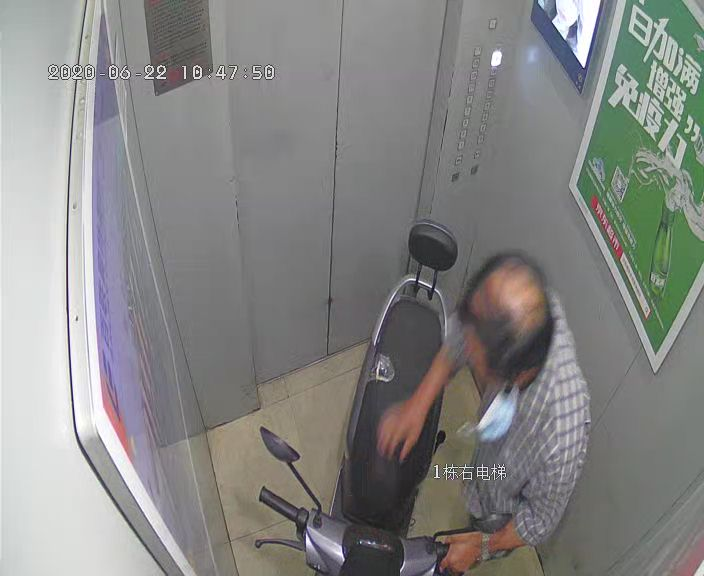Electric-bicycle: (255, 210, 509, 575)
